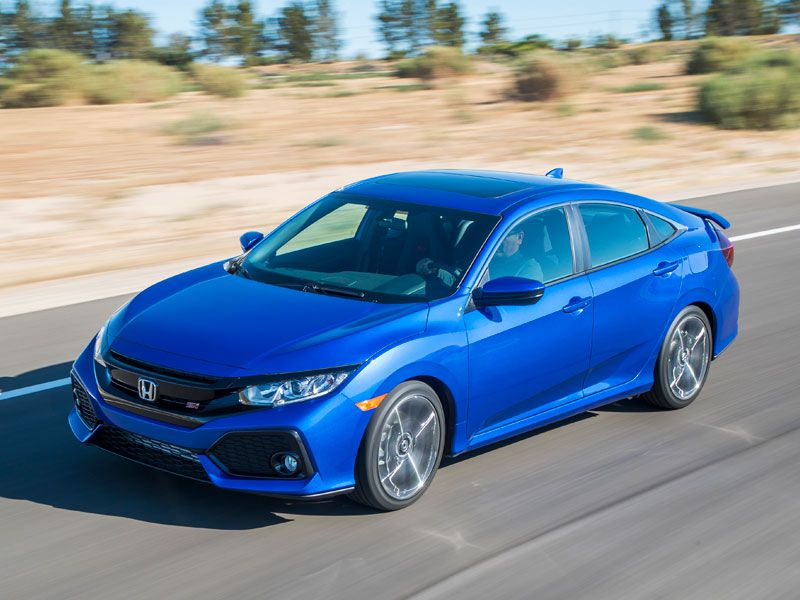car: (67, 168, 741, 513)
